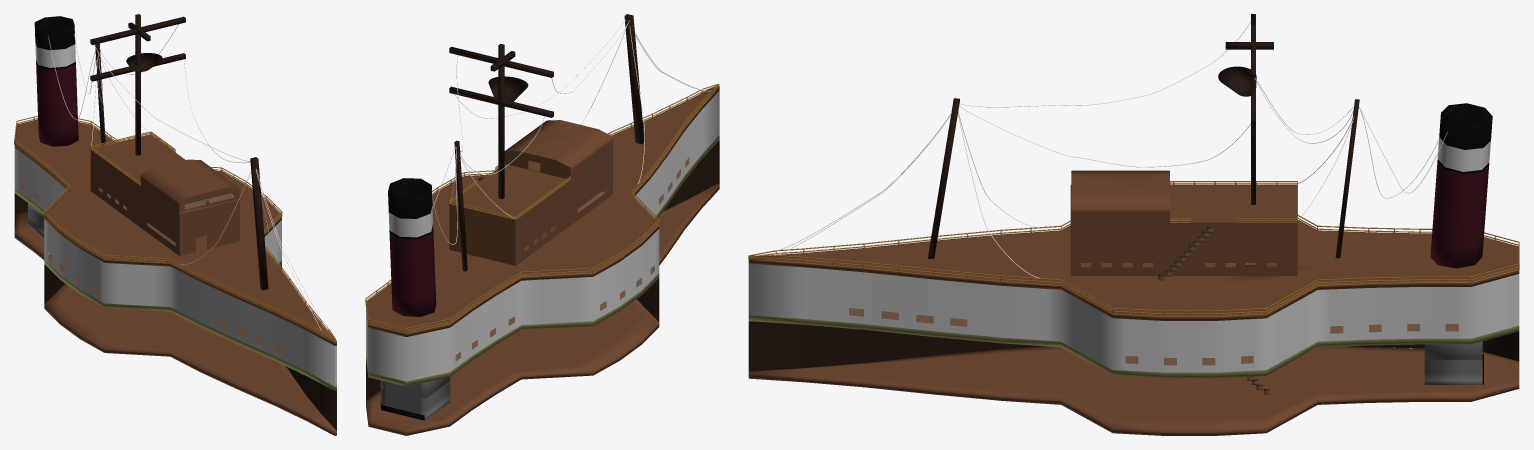
Rendered from shiptest2 (3).glb.
The picture shows the model from 3 angles, left to right: view 1: azimuth 30°, elevation 25°; view 2: azimuth 150°, elevation 25°; view 3: azimuth 270°, elevation 25°; orthographic projection. The views are drawn at different scales.
Visible parts, largest first — view 1: docks, shipwall1, lowerdock, captain, Pipe, railing, Pole2, sheepwall2, walldetails, trosses, Pole1, railing2 (+3 smaller); view 2: docks, shipwall1, captain, lowerdock, Pipe, Pole2, railing, sheepwall2, furnace, walldetails, trosses, Pole1 (+3 smaller); view 3: shipwall1, lowerdock, docks, captain, sheepwall2, Pipe, railing, walldetails, trosses, furnace, Pole2, walldetails2 (+3 smaller).
Part boxes in pixels (x1,y1,x2,y2): docks: [14, 119, 336, 345]; shipwall1: [14, 148, 336, 386]; lowerdock: [14, 212, 336, 435]; captain: [90, 135, 239, 255]; Pipe: [34, 16, 78, 146]; railing: [14, 115, 336, 342]; Pole2: [90, 14, 185, 155]; sheepwall2: [14, 193, 336, 430]; walldetails: [14, 189, 336, 390]; trosses: [48, 24, 328, 330]; Pole1: [250, 157, 268, 290]; railing2: [90, 131, 175, 185]; docks: [366, 85, 719, 336]; shipwall1: [366, 91, 719, 381]; captain: [449, 120, 612, 265]; lowerdock: [366, 184, 719, 435]; Pipe: [388, 178, 436, 316]; Pole2: [449, 44, 553, 199]; railing: [365, 84, 719, 333]; sheepwall2: [366, 140, 719, 400]; furnace: [380, 377, 450, 420]; walldetails: [366, 135, 719, 386]; trosses: [431, 19, 710, 244]; Pole1: [624, 14, 644, 144]; shipwall1: [748, 263, 1519, 372]; lowerdock: [748, 346, 1519, 435]; docks: [748, 220, 1519, 320]; captain: [1070, 170, 1297, 275]; sheepwall2: [748, 321, 1519, 371]; Pipe: [1430, 103, 1492, 268]; railing: [748, 215, 1519, 317]; walldetails: [748, 315, 1519, 378]; trosses: [775, 21, 1447, 278]; furnace: [1424, 341, 1482, 384]; Pole2: [1218, 14, 1273, 204]; walldetails2: [849, 308, 1458, 365].
Bounding box in the file's own units: 2.69 × 3.8 × 7.54.
